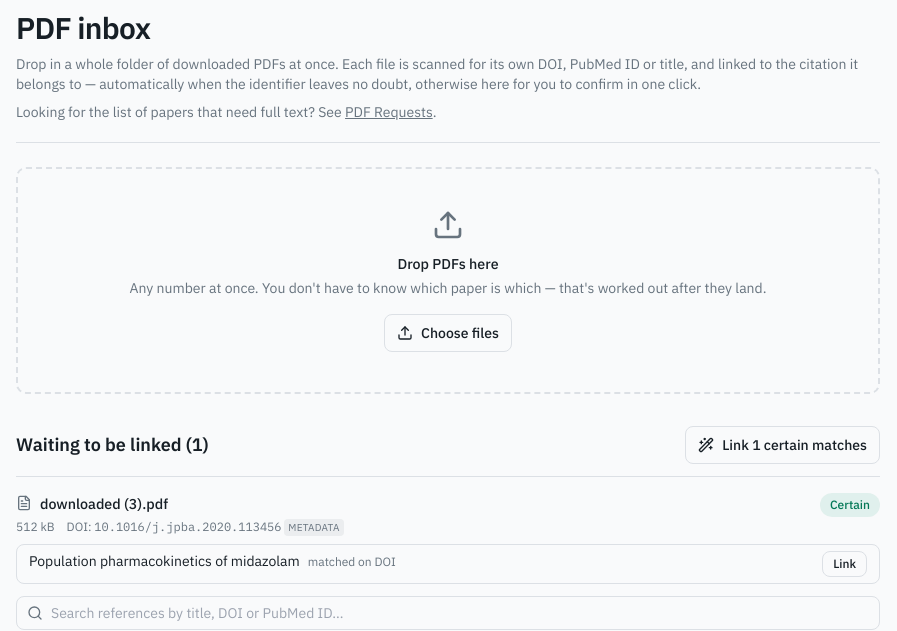
it: PdfInboxPage › runs the sweep and says how much is left when it was truncated
Click the button "Link 1 certain matches" at [783, 445], box x1=685 y1=426 x2=880 y2=464
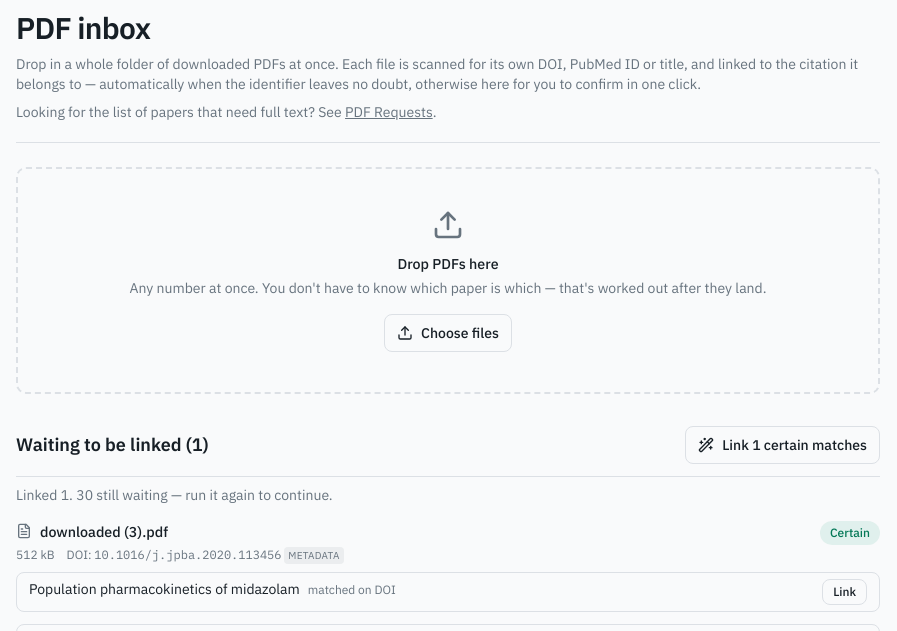
expect the text "Linked 1. 30 still waiting — run it again to continue." is shown: met, box x1=16 y1=486 x2=333 y2=504
